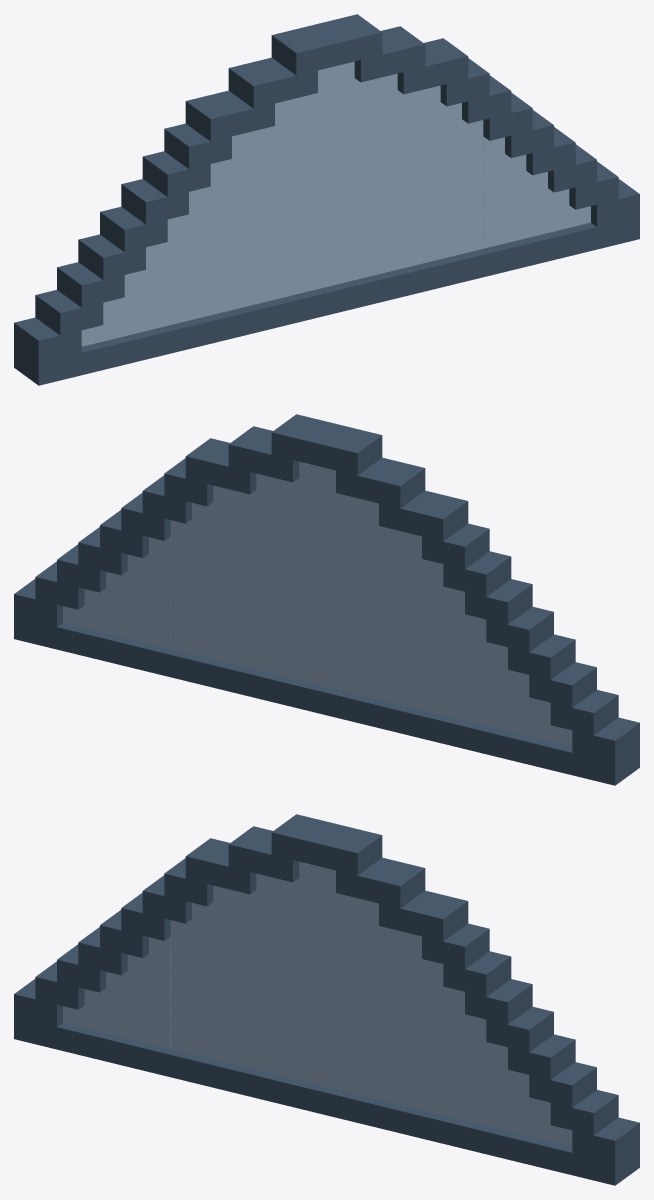
The model's file is NewRock.fbx.
The picture shows the model from 3 angles, top to bottom: view 1: azimuth 30°, elevation 25°; view 2: azimuth 150°, elevation 25°; view 3: azimuth 330°, elevation 25°; orthographic projection.
Visible parts, largest first — view 1: generated; view 2: generated; view 3: generated.
Part boxes in pixels (<box>): generated: <box>14,14,639,385</box>; generated: <box>14,414,639,785</box>; generated: <box>14,814,639,1185</box>.
Bounding box in the file's own units: 280 × 120 × 20.
